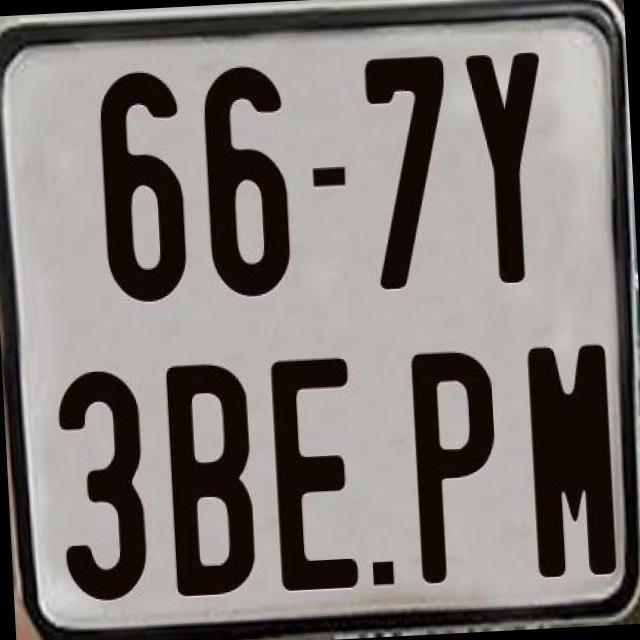3: (56, 364, 156, 606)
6: (94, 64, 194, 300), (201, 59, 295, 298)
7: (363, 54, 462, 293)
B: (165, 358, 262, 596)
E: (270, 356, 362, 600)
M: (524, 343, 618, 586)
P: (410, 348, 506, 592)
Y: (464, 47, 556, 285)
